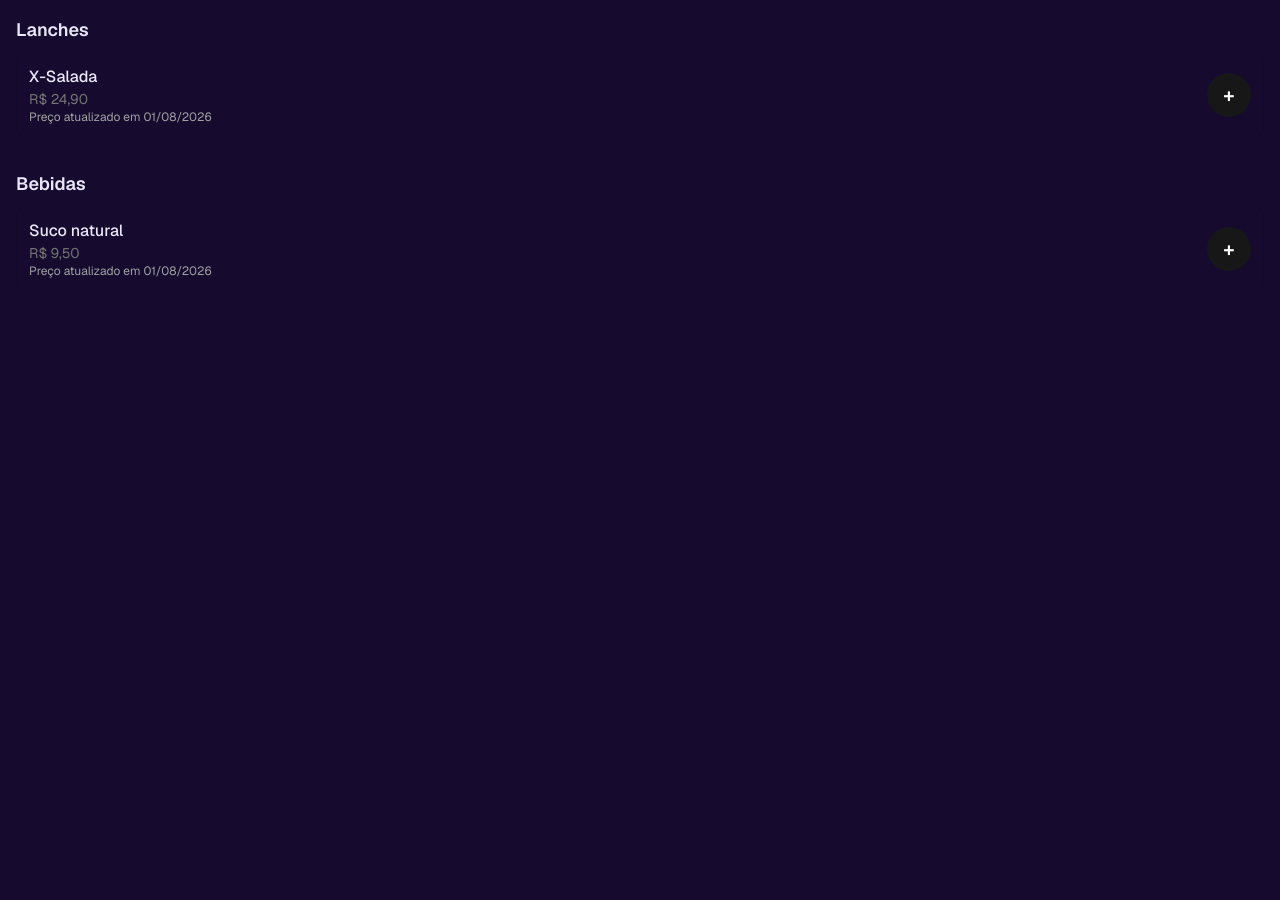
Scenario: CardapioClient › toque no '+' adiciona o item direto, sem tela de detalhe (spec seção 2)
The width and height of the screenshot is (1280, 900).
Click the button named "Adicionar X-Salada" at point(1229, 95), box [1207, 73, 1251, 117]
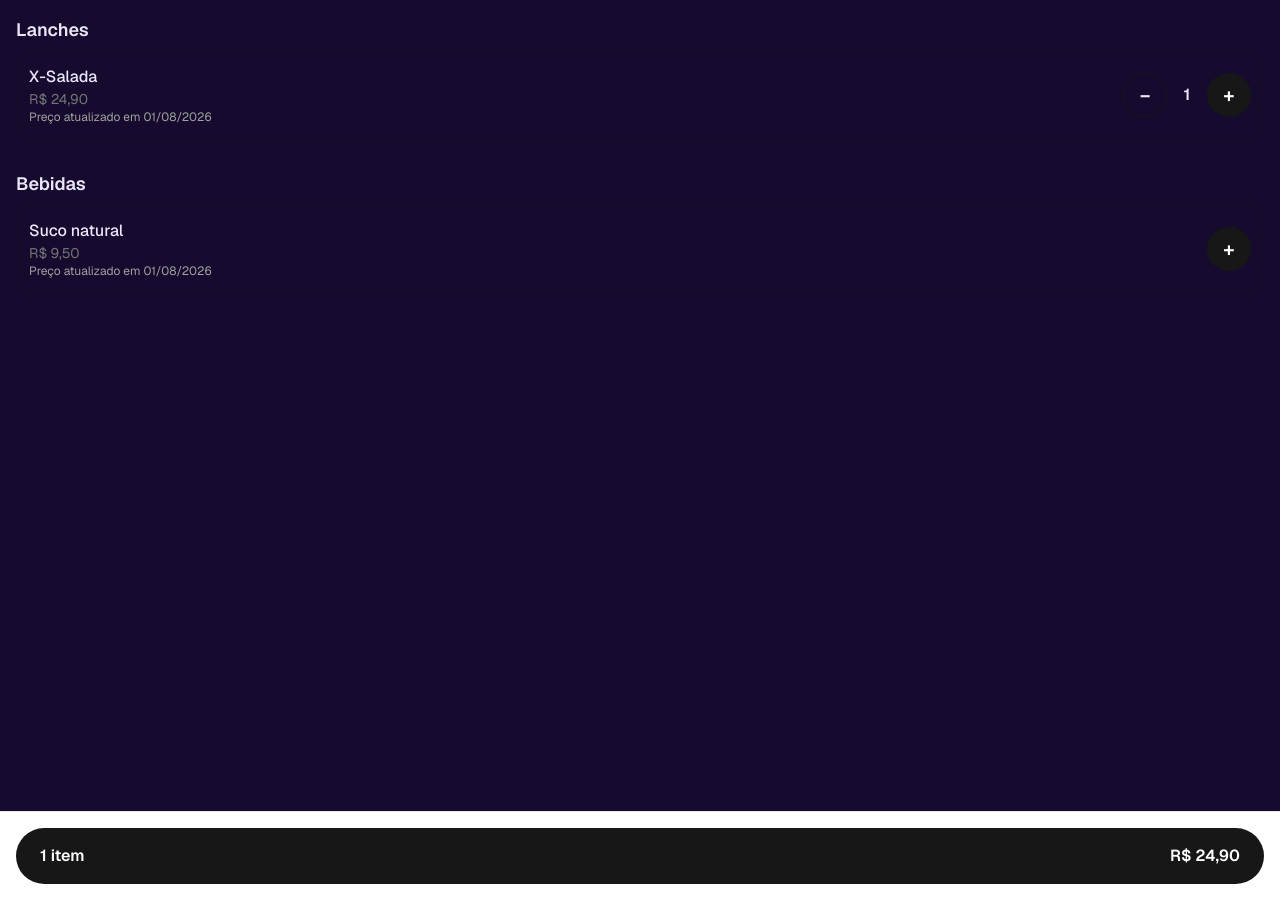
Result: the button named "Remover X-Salada" is shown at [1123, 73, 1167, 117]
Result: the text "1" is shown at [1184, 84, 1190, 105]
Result: the text "1 item" is shown at [40, 844, 85, 868]
